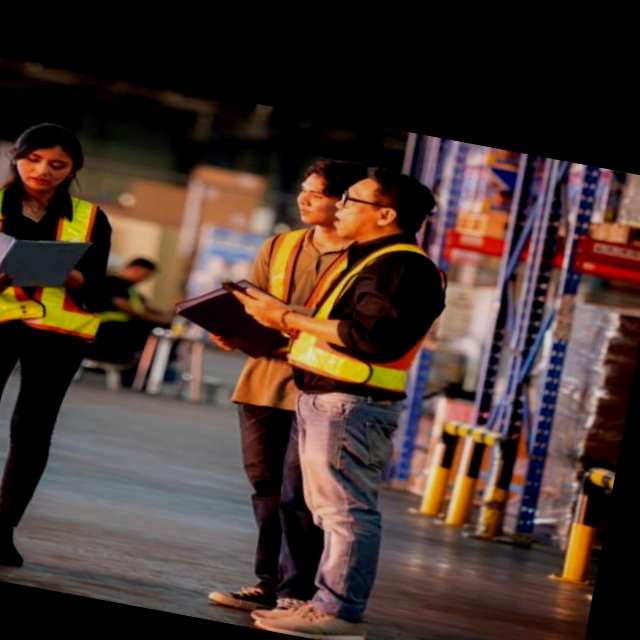Con_Chaleco: (284, 225, 457, 404), (0, 179, 119, 348)
Sin_Casco_Mascarrilla: (332, 161, 442, 252), (2, 115, 87, 199)
